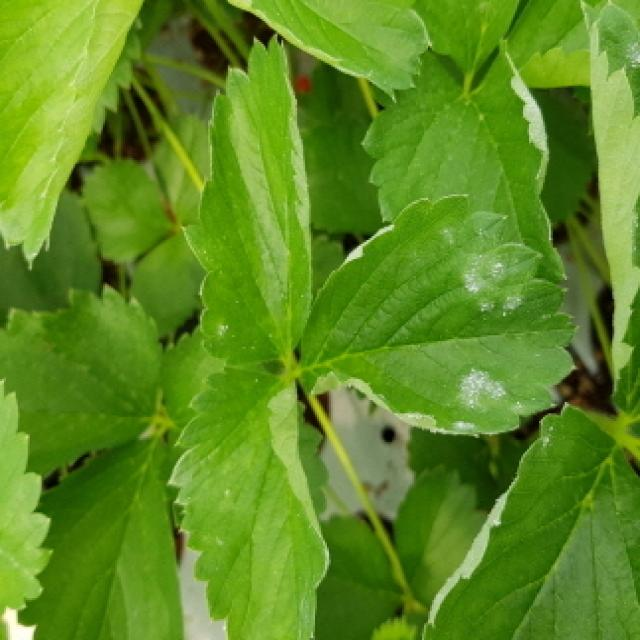Powdery Mildew Leaf: (297, 191, 580, 437), (420, 402, 640, 640), (360, 35, 568, 284), (177, 31, 314, 370), (578, 0, 640, 424)
